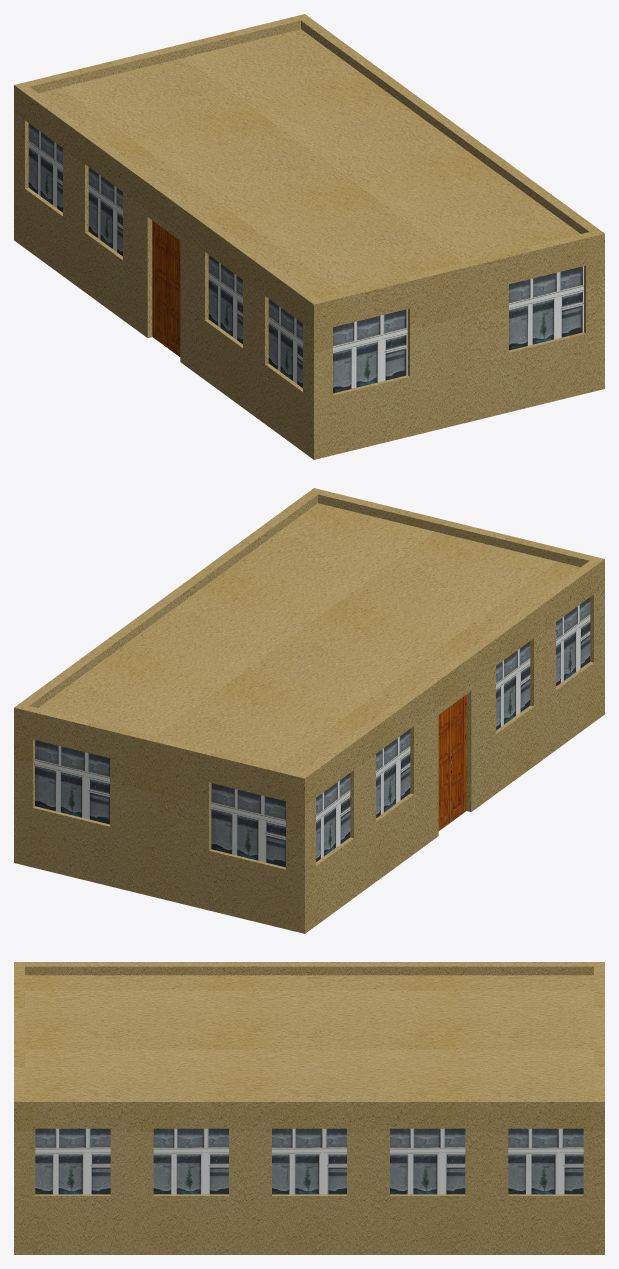
File: pilice.glb
3 renders of one model, top to bottom at view 1: azimuth 30°, elevation 25°; view 2: azimuth 150°, elevation 25°; view 3: azimuth 270°, elevation 25°, orthographic.
Visible parts, largest first — view 1: Куб; view 2: Куб; view 3: Куб.
Part boxes in pixels (left/top/right/bottom): Куб: left=14, top=14, right=604, bottom=459; Куб: left=14, top=488, right=604, bottom=933; Куб: left=14, top=962, right=604, bottom=1254.
Bounding box in the file's own units: 7.84 × 4 × 14.
Materials: 2 (2 with a texture image).
